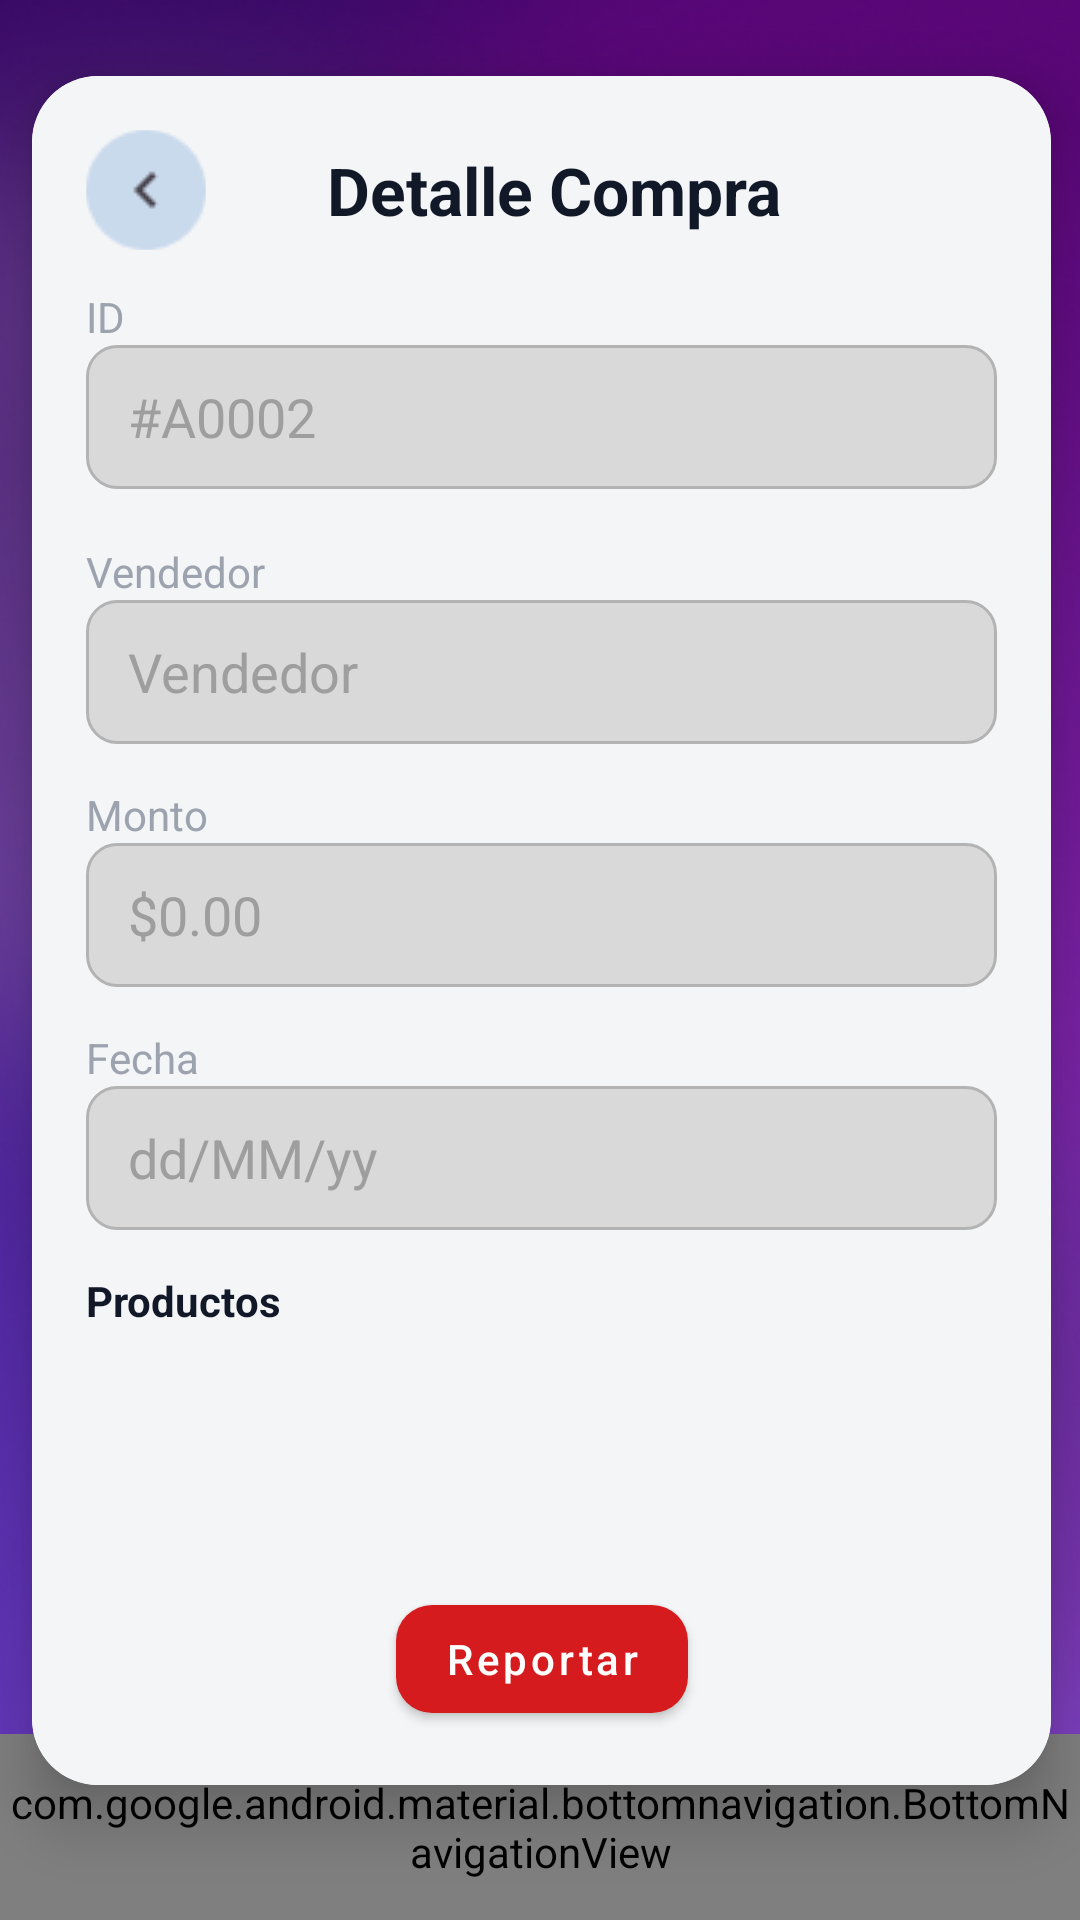

Named icons in this screenshot (1080*1920) and their bounding boxes, (x1, y1, x2, y2):
Volver: (86, 130, 206, 250)
